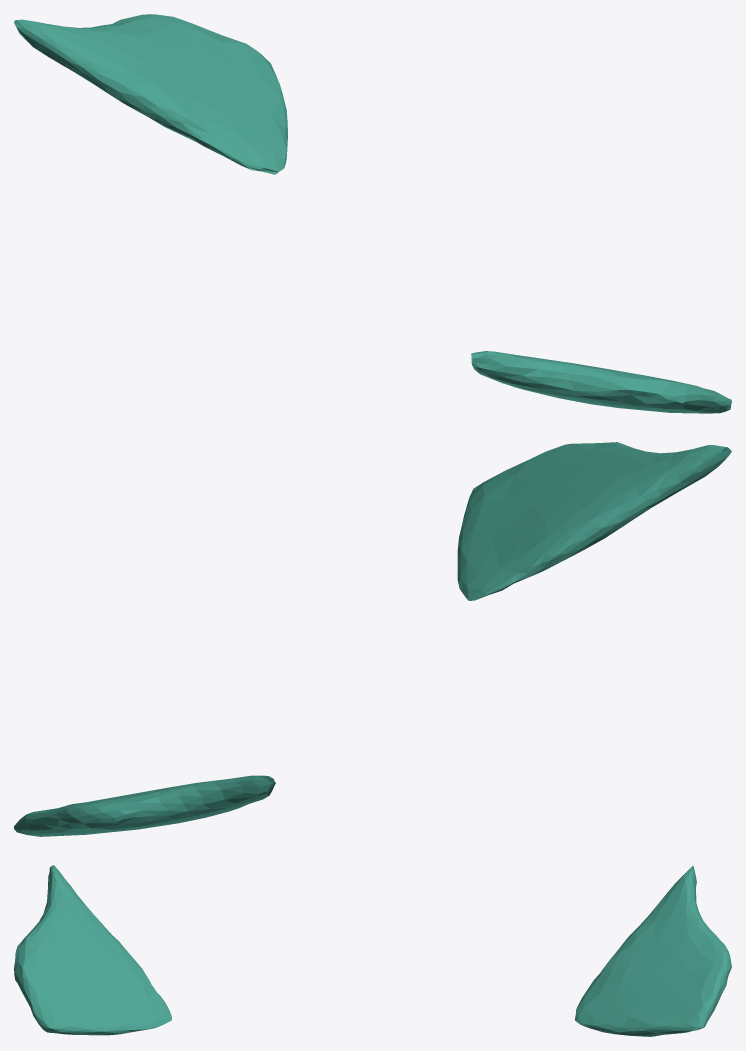
3 renders of one model, top to bottom at view 1: azimuth 30°, elevation 25°; view 2: azimuth 150°, elevation 25°; view 3: azimuth 270°, elevation 25°, orthographic. The views are drawn at different scales.
Parts seen in each view (by area): view 1: 1094.obj; view 2: 1094.obj; view 3: 1094.obj.
Boxes of the visible parts, x1=… form: 1094.obj: x1=14, y1=14, x2=731, y2=413; 1094.obj: x1=14, y1=442, x2=731, y2=836; 1094.obj: x1=14, y1=865, x2=731, y2=1036.
Size of the model in its own units: 1304 by 664 by 4439.
